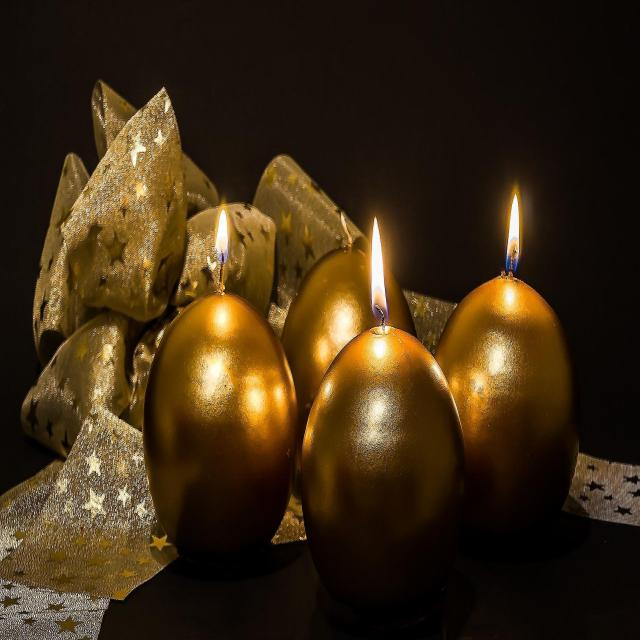Fire_Save: (300, 216, 466, 609), (142, 206, 298, 560), (433, 190, 580, 537)
